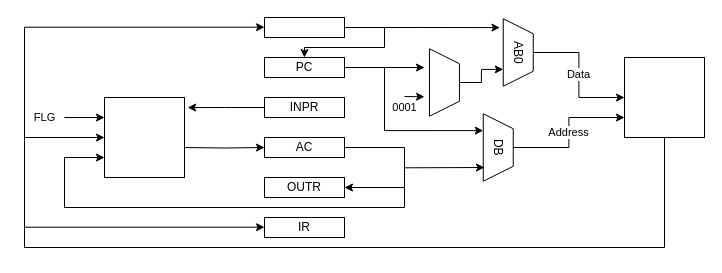
Some shapes in this 722 by 273 pixel diagram are drawn without their labels. Each missing label, with the centre of its shape:
"AB1" belongs at (x=444, y=82).
"ALU" belongs at (x=144, y=137).
"AR" belongs at (x=304, y=27).
"MEM" belongs at (x=664, y=97).
